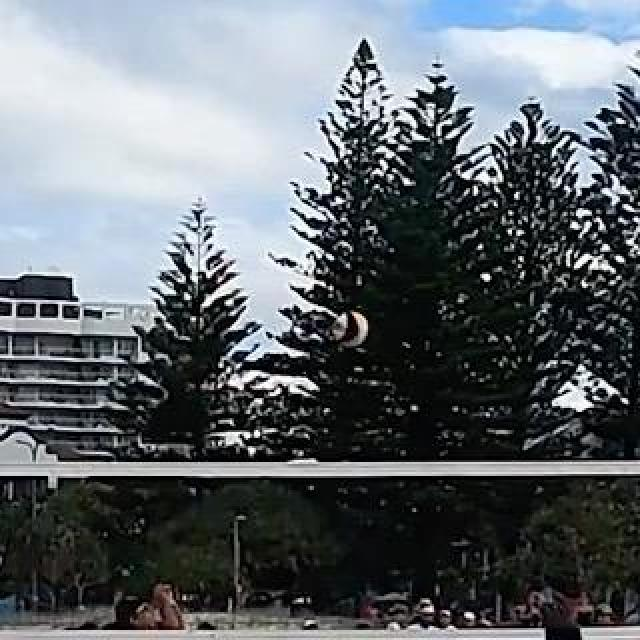volleyball: (334, 309, 368, 345)
